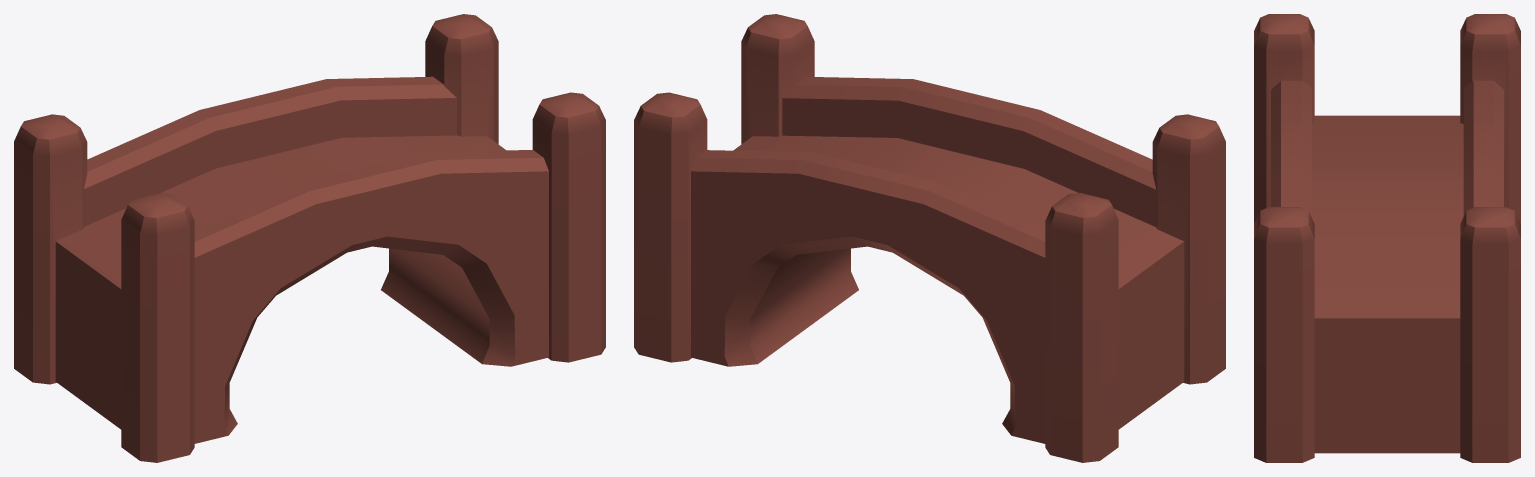
The model's file is bridgeFBX.fbx.
3 renders of one model, left to right at view 1: azimuth 30°, elevation 25°; view 2: azimuth 150°, elevation 25°; view 3: azimuth 270°, elevation 25°, orthographic. The views are drawn at different scales.
Parts seen in each view (by area): view 1: bridge; view 2: bridge; view 3: bridge.
Part boxes in pixels (box(x1,y1,x2,y2)): bridge: box(14, 14, 605, 462); bridge: box(634, 14, 1225, 462); bridge: box(1254, 14, 1520, 462).
Bounding box in the file's own units: 14.01 × 7.13 × 7.22.
